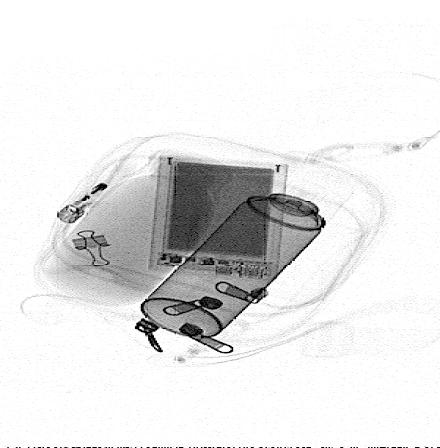Lighter: (56, 161, 141, 224)
Powerbank: (148, 156, 288, 282)
Sprayer: (142, 160, 357, 339)
